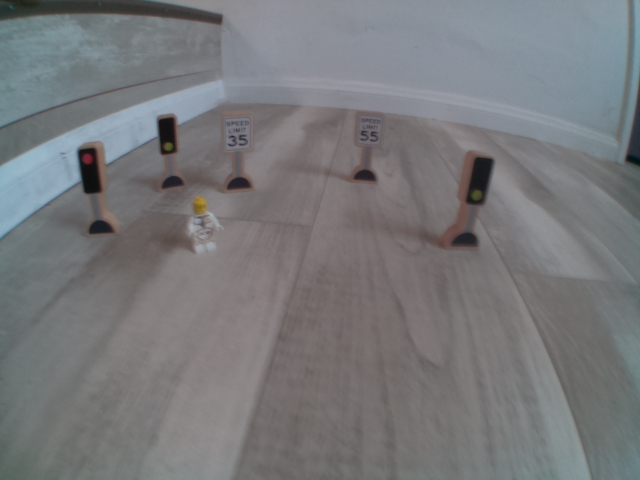Green Traffic Light: (459, 151, 495, 209), (156, 115, 190, 163)
Red Traffic Light: (75, 140, 108, 194)
Speed Limit 35: (220, 115, 256, 156)
Speed Limit 55: (356, 107, 386, 152)
person: (173, 193, 235, 261)
